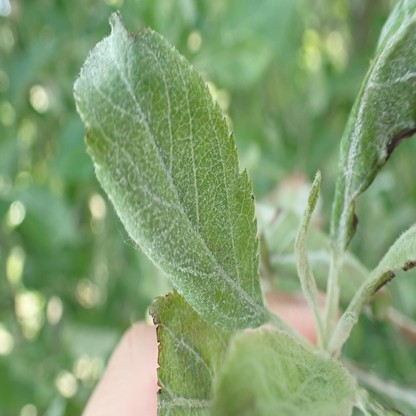powder: (73, 11, 265, 329), (336, 1, 416, 248), (219, 328, 355, 416), (149, 287, 218, 414), (295, 170, 323, 333), (364, 225, 416, 298), (331, 313, 358, 346)
